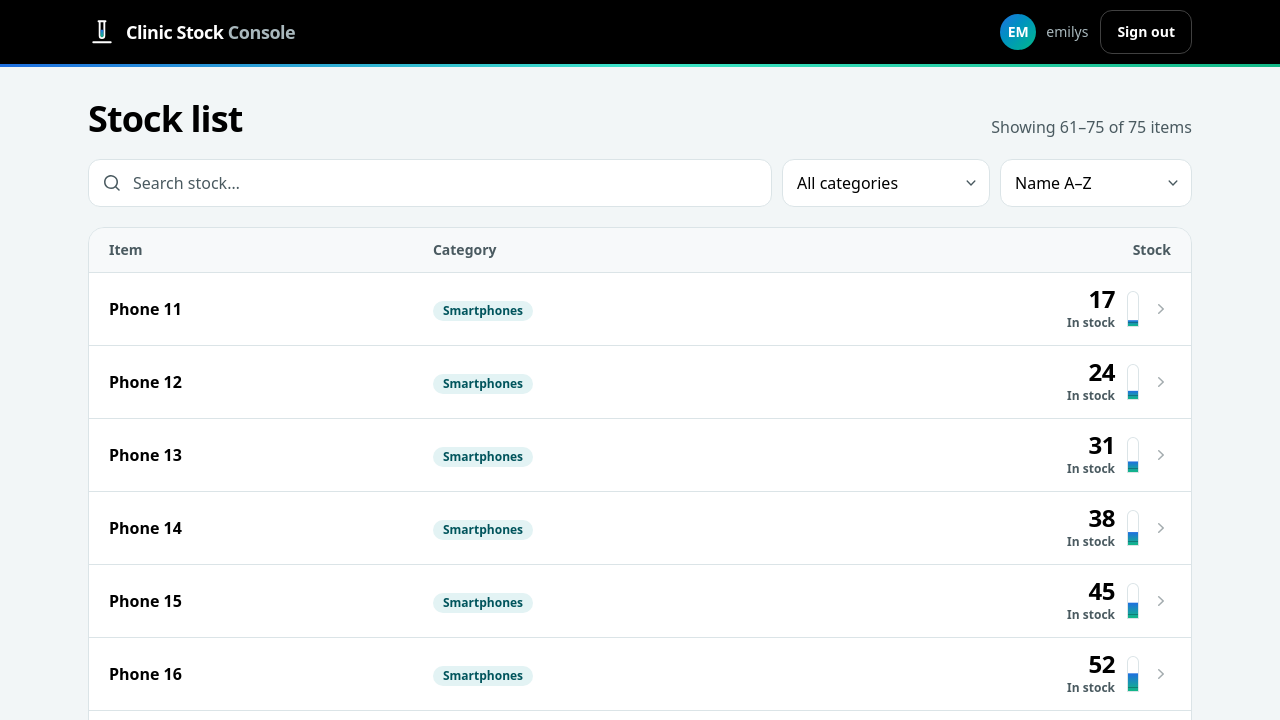
2. Changing the category or sort never strands the user on an empty page › returns to page 1 with results when the category changes on a later page
This screenshot has width=1280, height=720.
Expected: the text "Showing 61–75 of 75 items" is shown, [991,115,1192,139]
Select "Smartphones" in the 1st dropdown named "Filter by category". click: point(886, 183)
box: [782,159,990,207]
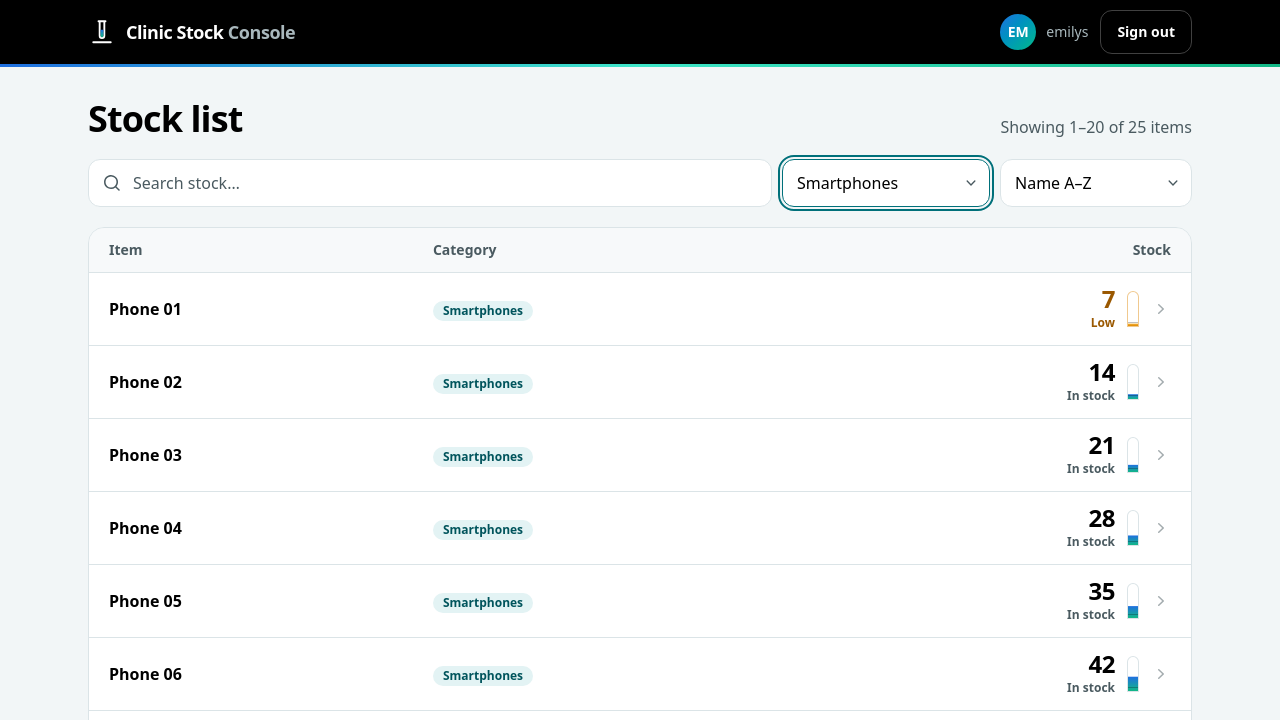
Expected: the link "Phone 01" is shown, [109,298,182,320]
Expected: the text "Showing 1–20 of 25 items" is shown, [1000,115,1192,139]
